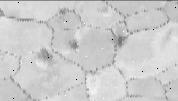good_void: (35, 46, 53, 62), (115, 33, 128, 48), (56, 7, 76, 15), (67, 38, 78, 50)
